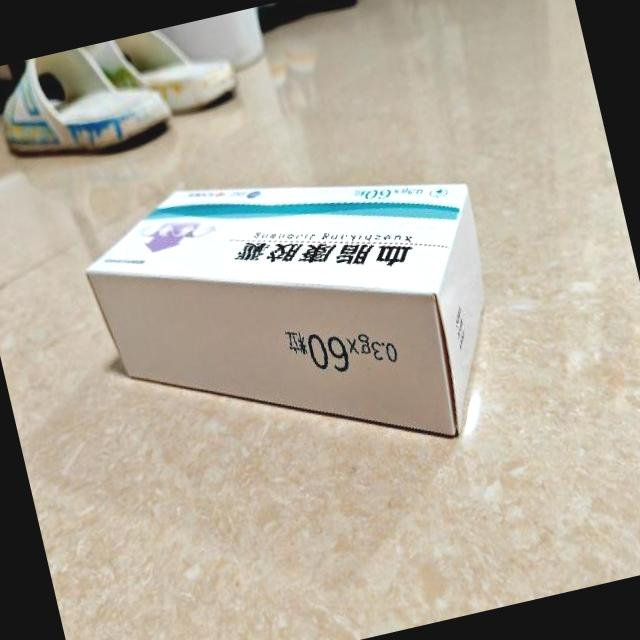box: (72, 125, 522, 509)
